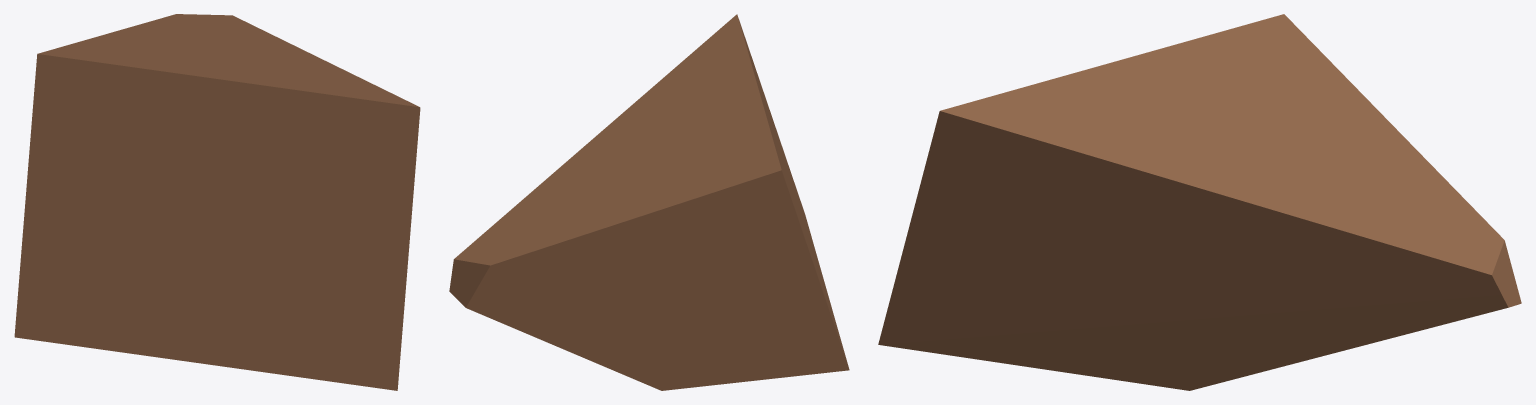
The model's file is WoodCellCube_003_cell_037.fbx.
3 renders of one model, left to right at view 1: azimuth 30°, elevation 25°; view 2: azimuth 150°, elevation 25°; view 3: azimuth 270°, elevation 25°, orthographic. The views are drawn at different scales.
Visible parts, largest first — view 1: WoodCellCube_003_cell_037; view 2: WoodCellCube_003_cell_037; view 3: WoodCellCube_003_cell_037.
Boxes of the visible parts, left/top/right/bottom form: WoodCellCube_003_cell_037: left=14, top=14, right=420, bottom=390; WoodCellCube_003_cell_037: left=449, top=14, right=849, bottom=390; WoodCellCube_003_cell_037: left=878, top=14, right=1521, bottom=390.
Bounding box in the file's own units: 0.7335 × 0.3625 × 0.4772.
Materials: 1 (1 with a texture image).
